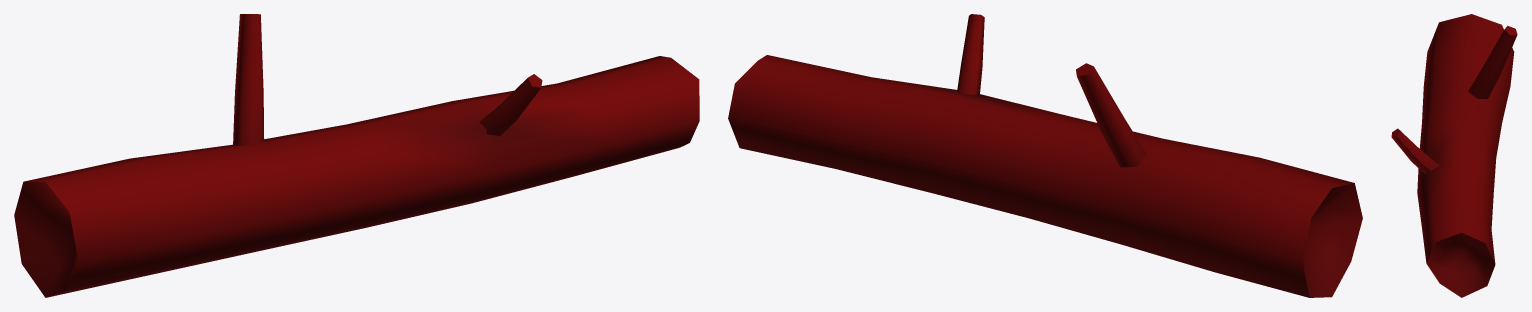
File: log.glb
3 renders of one model, left to right at view 1: azimuth 30°, elevation 25°; view 2: azimuth 150°, elevation 25°; view 3: azimuth 270°, elevation 25°, orthographic. The views are drawn at different scales.
Parts seen in each view (by area): view 1: log_LOD0; view 2: log_LOD0; view 3: log_LOD0.
Boxes of the visible parts, x1=… form: log_LOD0: x1=14, y1=14, x2=699, y2=297; log_LOD0: x1=728, y1=14, x2=1362, y2=297; log_LOD0: x1=1391, y1=14, x2=1517, y2=297.
Bounding box in the file's own units: 3.02 × 0.9637 × 0.7767.
